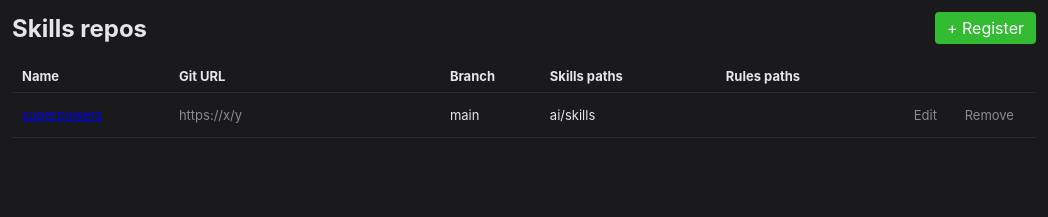
Test: SkillsRepos — guarded remove › shows blocker links when removal is refused
This screenshot has width=1048, height=217.
Expected: the link "superpowers" is shown, [22, 107, 102, 123]
Click the button "Remove" at (989, 115), box [953, 101, 1026, 129]
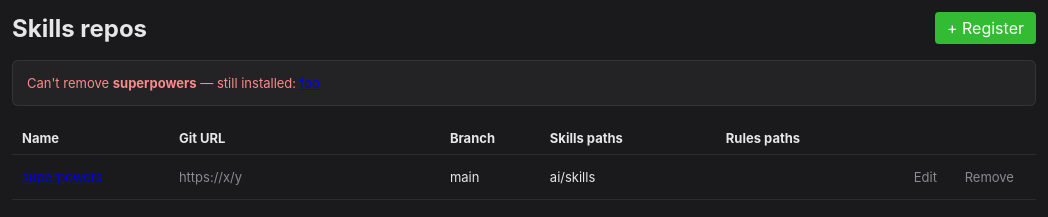
Expected: the text "Can't remove superpowers — still installed: foo" is shown, [12, 60, 1036, 106]
